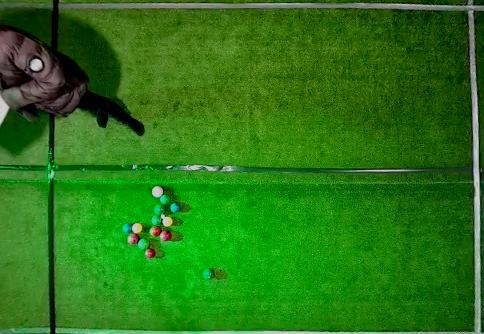blue: (170, 202, 181, 213), (122, 223, 132, 233)
green: (138, 238, 149, 250), (159, 194, 170, 205), (203, 269, 214, 280), (154, 205, 166, 215), (151, 215, 162, 225)
red: (127, 234, 140, 245), (160, 230, 172, 241), (150, 226, 162, 237), (152, 186, 163, 198), (145, 248, 156, 258)
vline: (1, 118, 55, 333), (466, 0, 483, 334), (1, 0, 59, 51)
white: (161, 214, 165, 218)
yellow: (132, 223, 143, 233), (163, 217, 173, 227)
